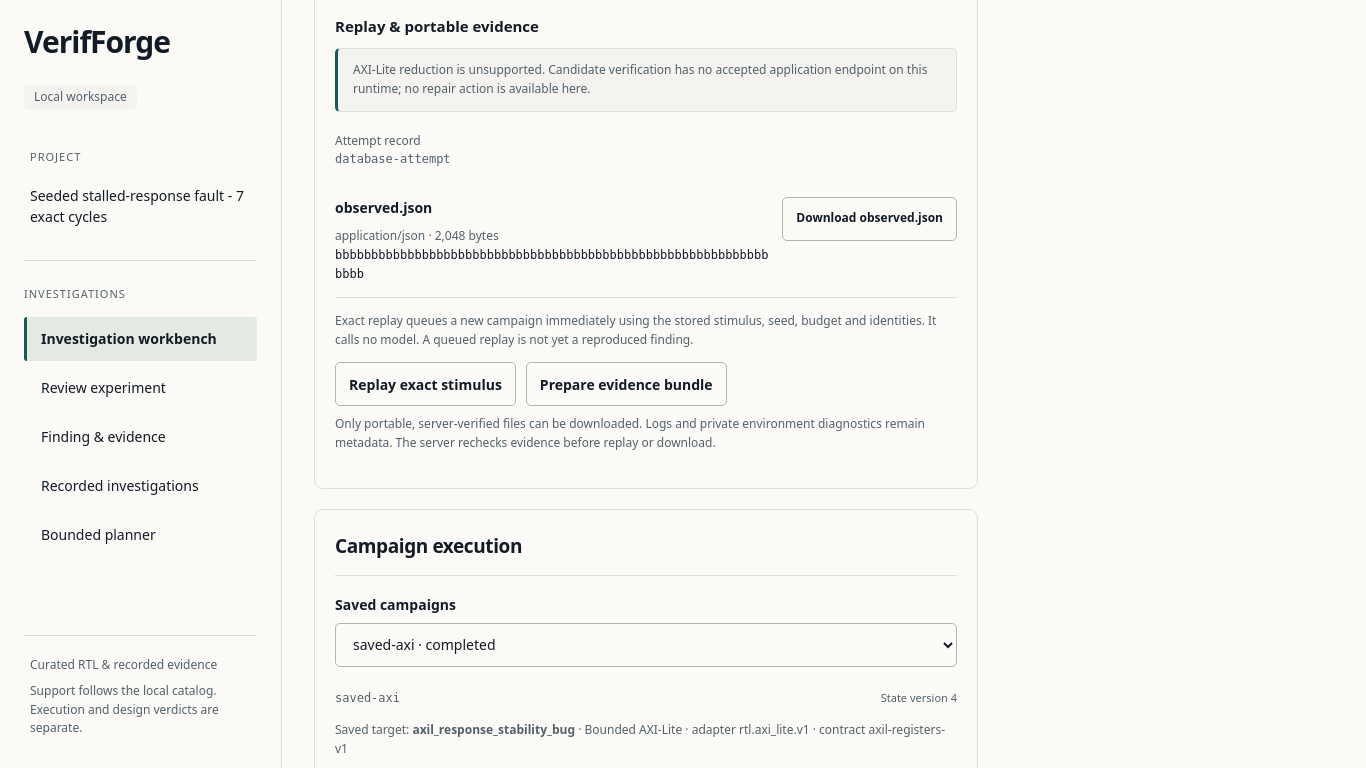
Scenario: native AXI evidence › requests an export for the same database attempt and displays its bundle identity
This screenshot has width=1366, height=768.
(page scrolled)
Click the button "Prepare evidence bundle" at (626, 384), box [526,362,727,406]
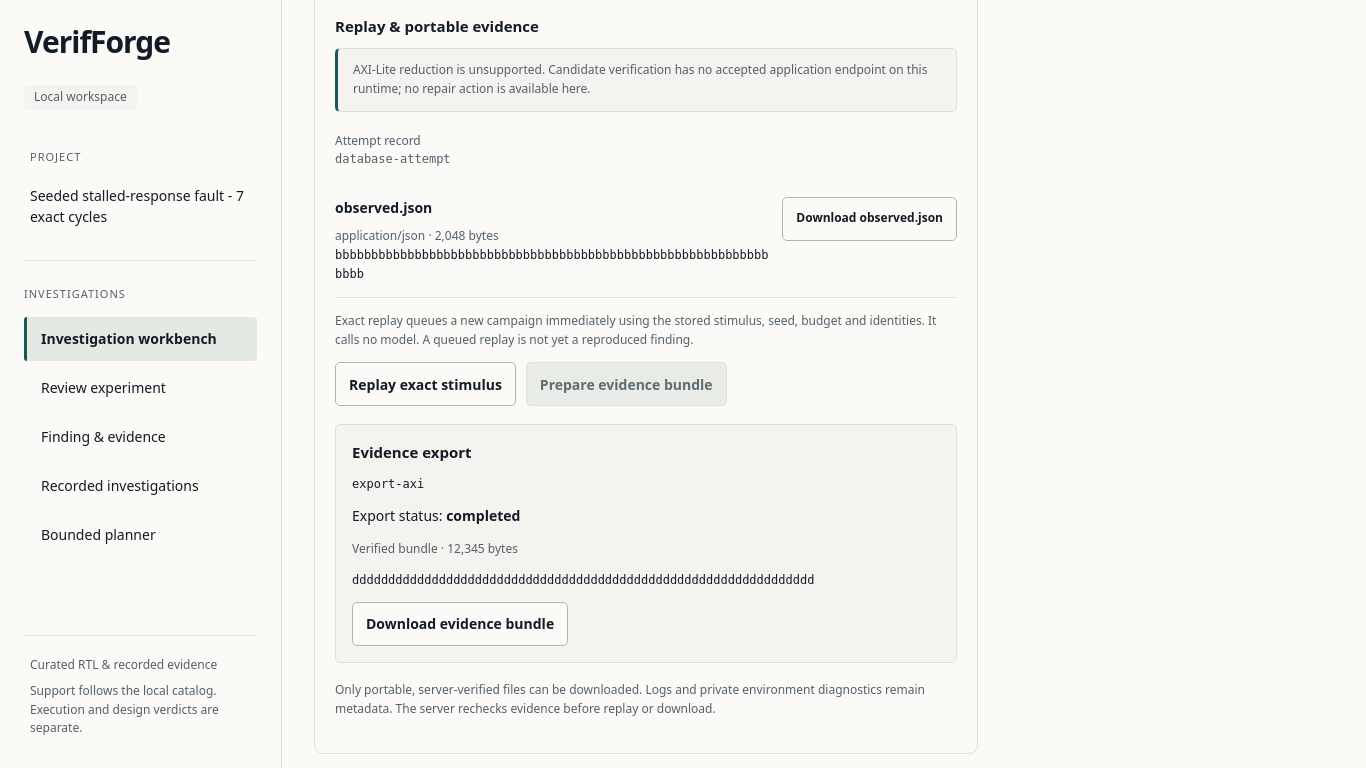
Check: the button "Download evidence bundle" is enabled, box [352,602,568,646]
